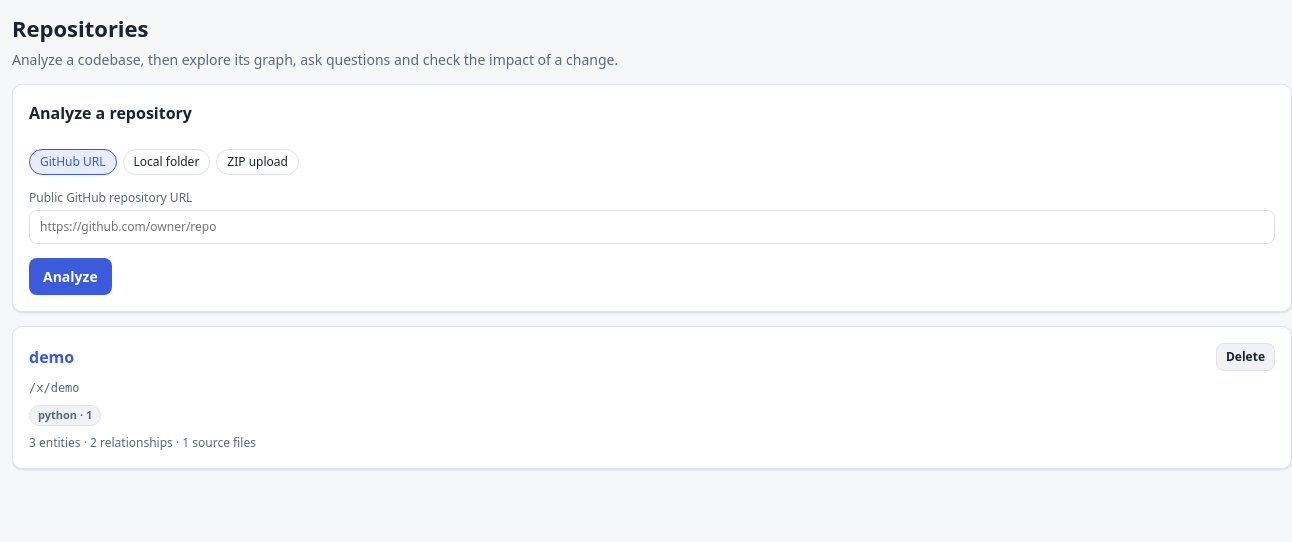
Scenario: pages › home lists analysed repositories and shows validation errors without calling the API
This screenshot has width=1292, height=542.
Expected: the link "demo" is shown, left=29, top=346, right=74, bottom=368
Click the button "Analyze".
click(70, 276)  # box left=29, top=258, right=112, bottom=295
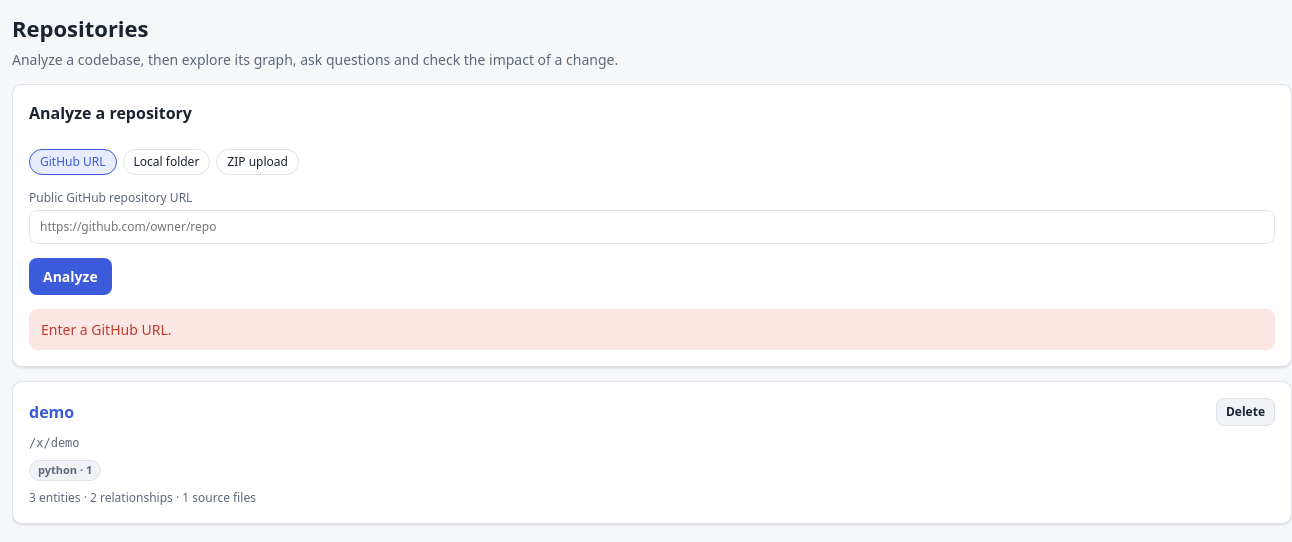
Expected: the text "Enter a GitHub URL." is shown, left=29, top=309, right=1275, bottom=350
